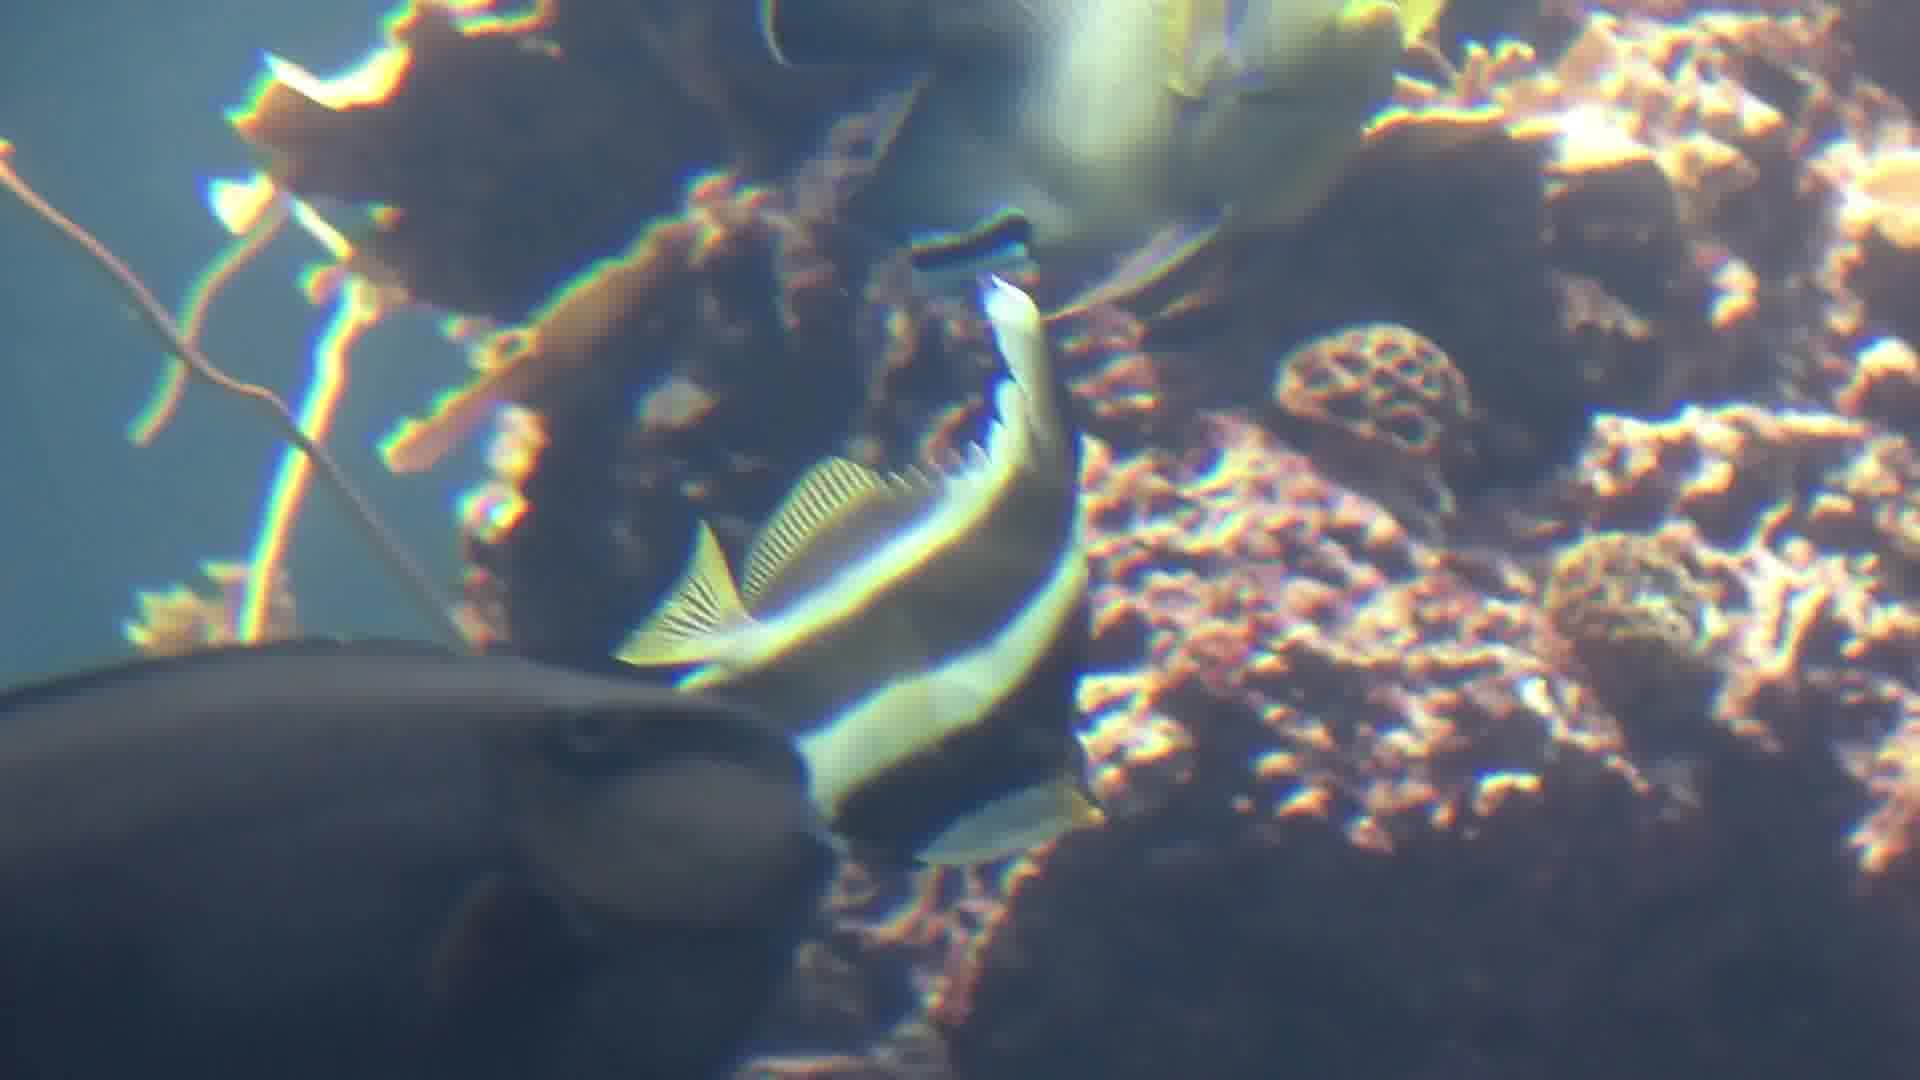Heniochus chrysostomus: (676, 215, 1112, 876)
